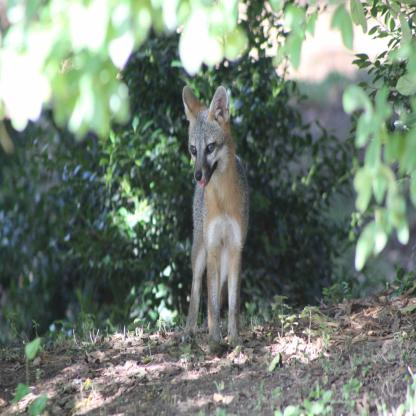zorro: (175, 72, 258, 354)
